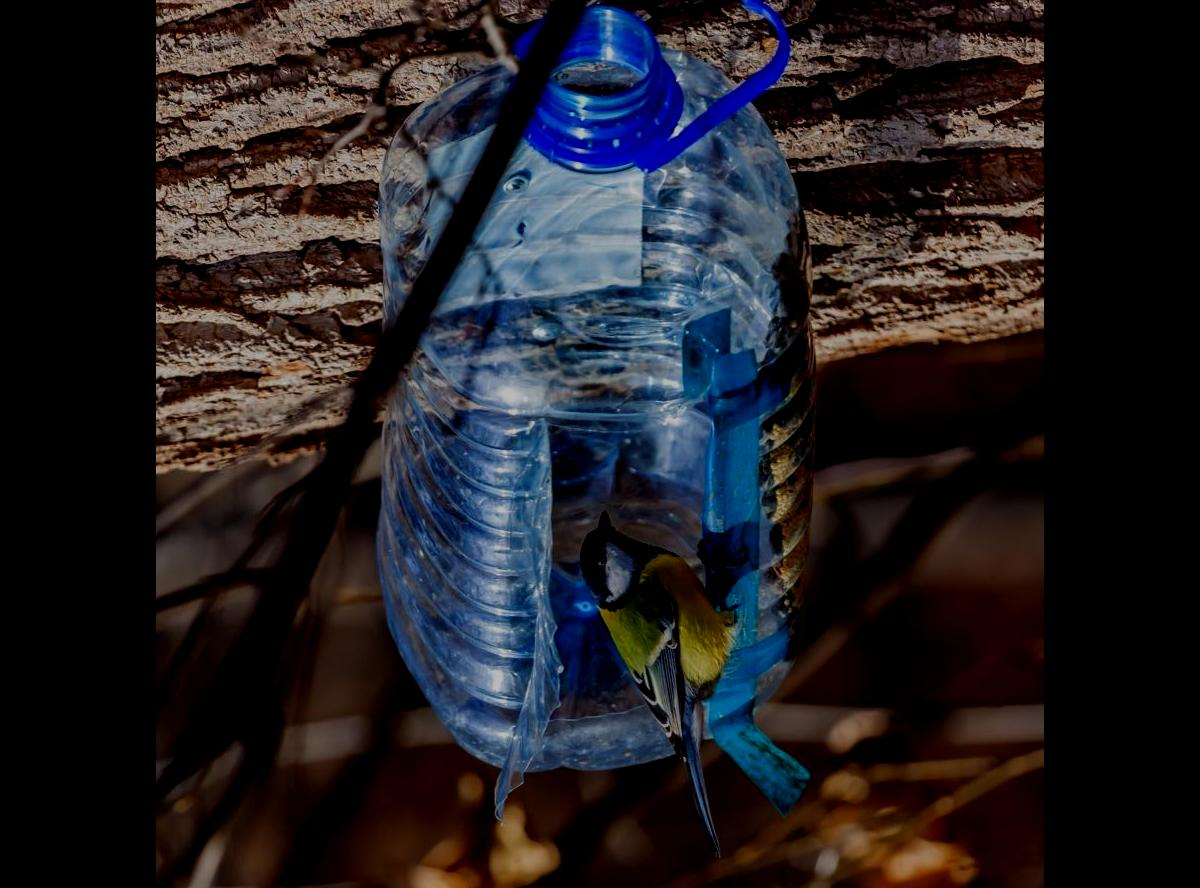bottle: (348, 0, 915, 859)
